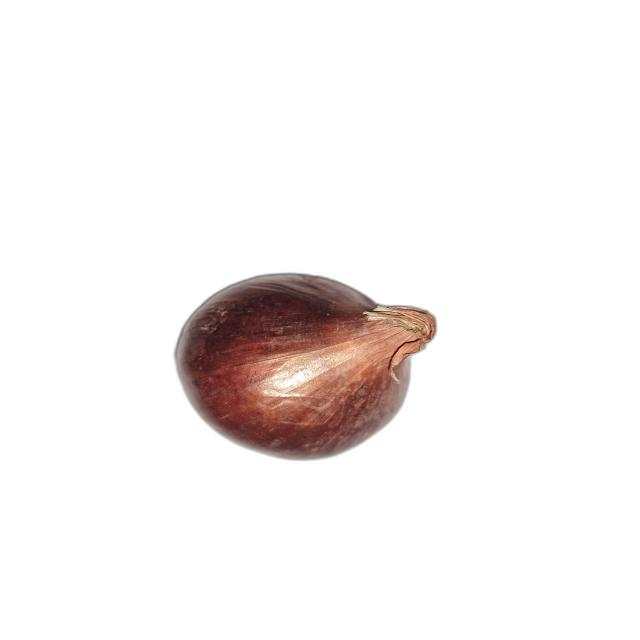onion: (174, 272, 438, 462)
